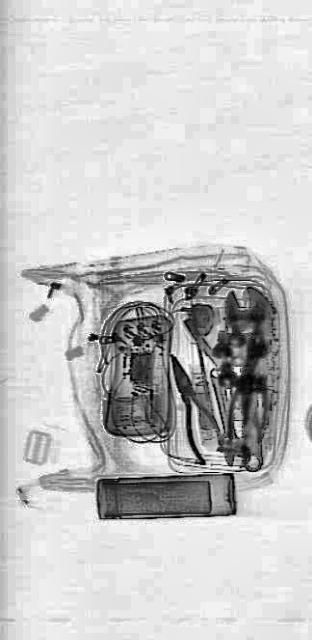Pliers: (160, 338, 224, 474)
Wrench: (222, 284, 274, 472)
